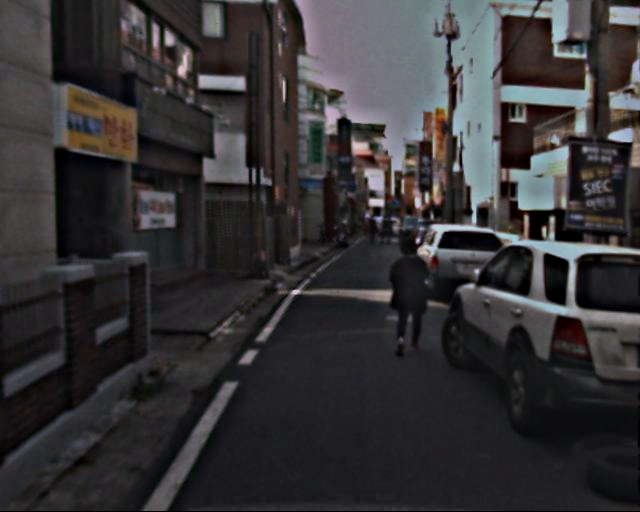person: (383, 238, 431, 355), (366, 212, 393, 244)
